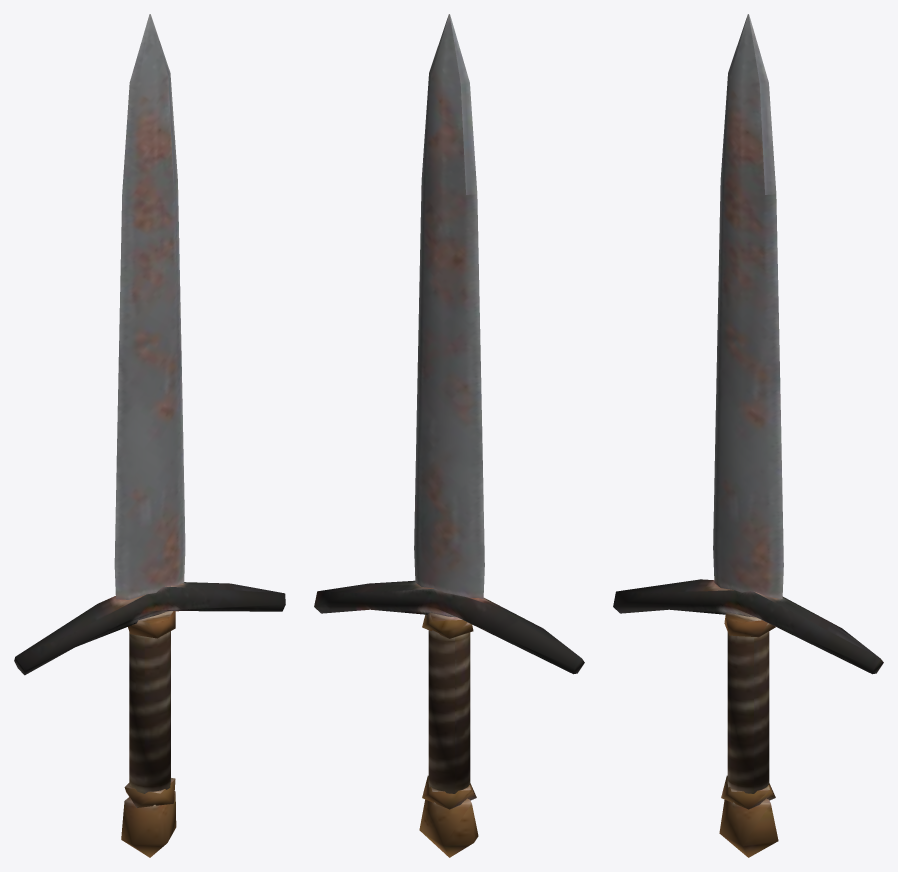
The model's file is eq_sword_1_lod2.glb.
The picture shows the model from 3 angles, left to right: view 1: azimuth 30°, elevation 25°; view 2: azimuth 150°, elevation 25°; view 3: azimuth 330°, elevation 25°; orthographic projection.
Visible parts, largest first — view 1: eq_sword_1_lod2; view 2: eq_sword_1_lod2; view 3: eq_sword_1_lod2.
Boxes of the visible parts, bbox=[...] form: eq_sword_1_lod2: bbox=[14, 14, 285, 857]; eq_sword_1_lod2: bbox=[314, 14, 584, 857]; eq_sword_1_lod2: bbox=[613, 14, 883, 857].
Size of the model in its own units: 0.3535 by 1.07 by 0.0624.
Materials: 1 (1 with a texture image).
